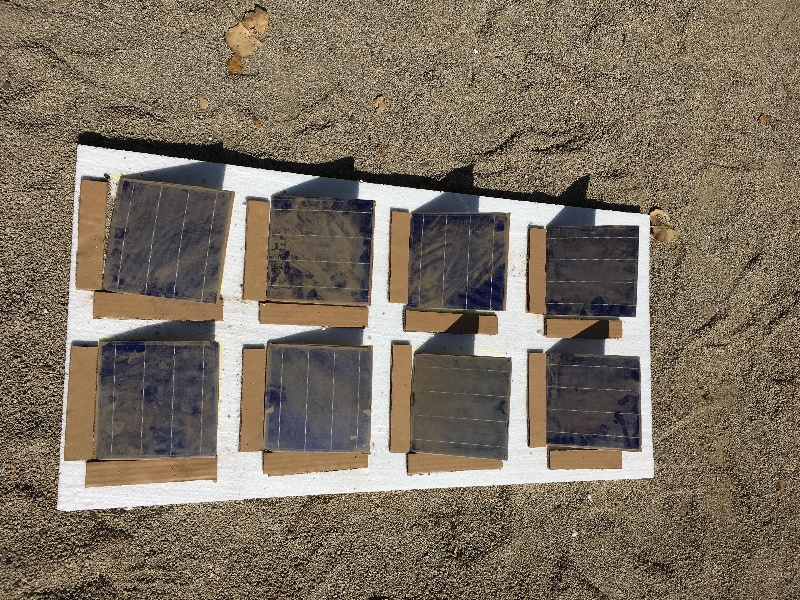dirty: (103, 179, 227, 307), (91, 343, 221, 457), (261, 345, 376, 455), (410, 351, 513, 465), (407, 213, 516, 314), (271, 198, 373, 305), (545, 351, 648, 454), (543, 224, 643, 321)
